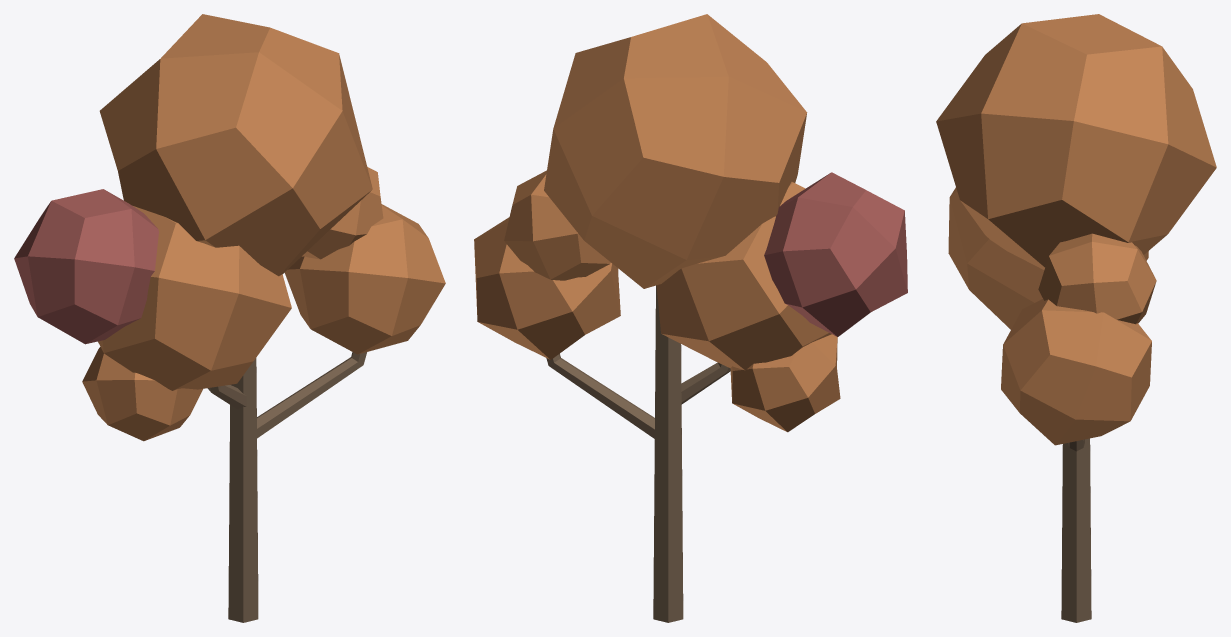
Rendered from Tree_01.fbx.
The picture shows the model from 3 angles, left to right: view 1: azimuth 30°, elevation 25°; view 2: azimuth 150°, elevation 25°; view 3: azimuth 270°, elevation 25°; orthographic projection.
Visible parts, largest first — view 1: pCylinder361; view 2: pCylinder361; view 3: pCylinder361.
Part boxes in pixels (bbox=[...]): pCylinder361: bbox=[14, 14, 445, 622]; pCylinder361: bbox=[474, 14, 907, 622]; pCylinder361: bbox=[936, 14, 1216, 622].
Bounding box in the file's own units: 11.02 × 15.11 × 6.56.
